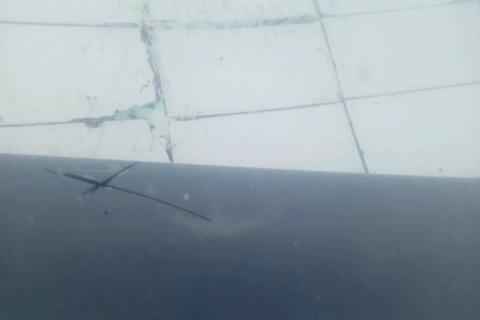keretakan: (41, 160, 211, 223)
